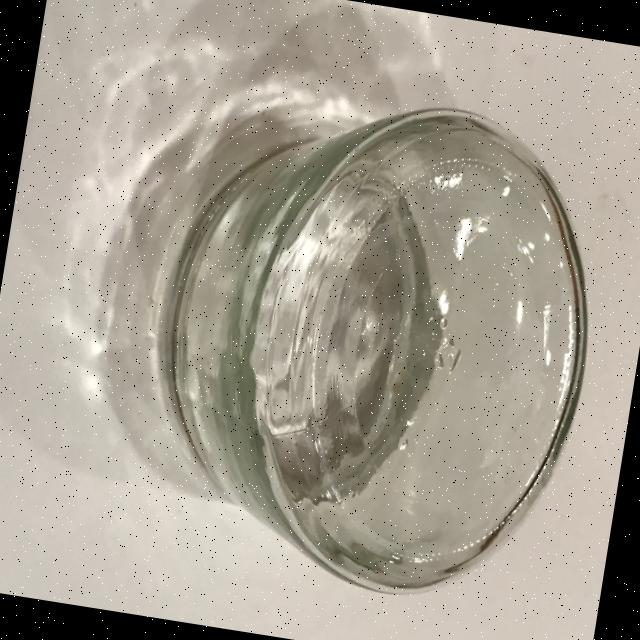glass: (128, 66, 622, 618)
